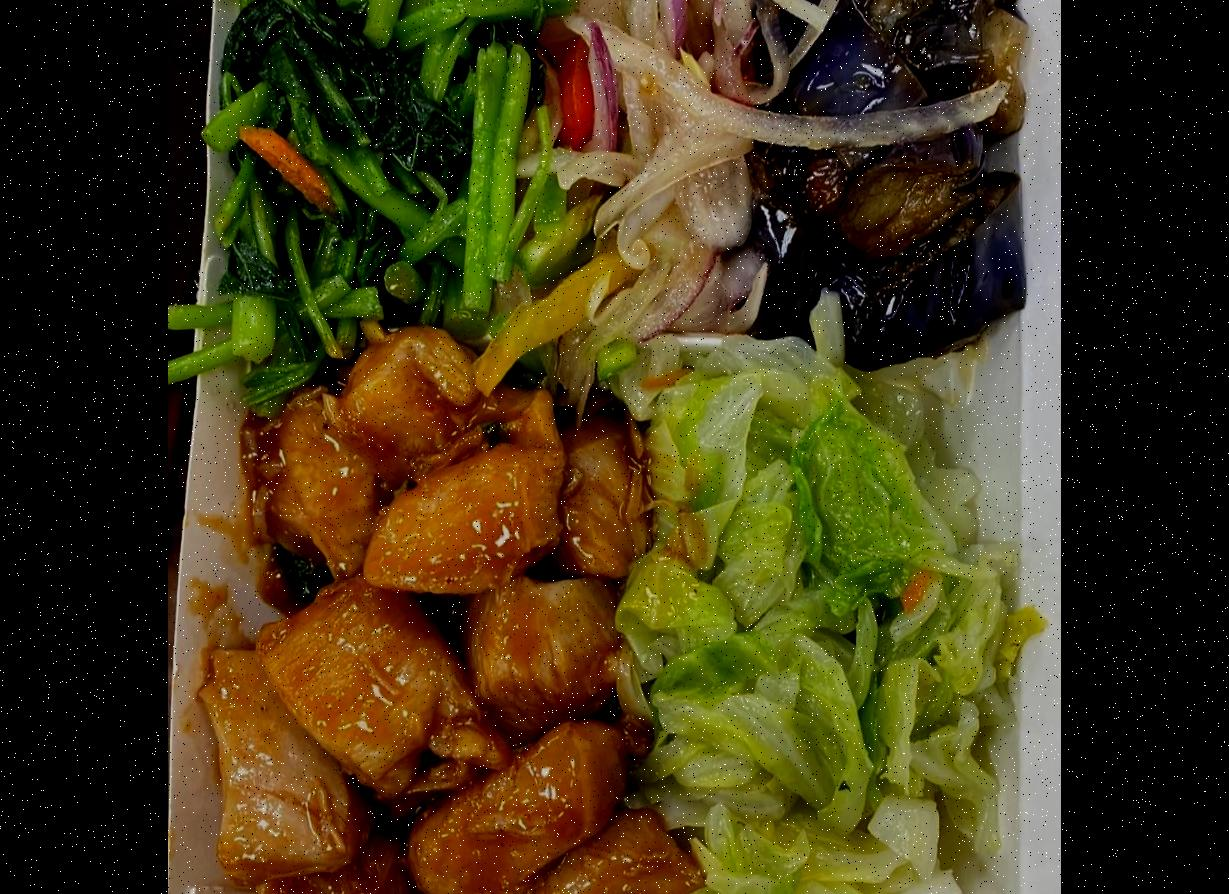box: (172, 0, 1031, 894)
side dish: (641, 353, 1013, 894), (210, 0, 541, 335), (751, 0, 1037, 339), (541, 0, 769, 329)
spicy chicken: (206, 337, 679, 894)
